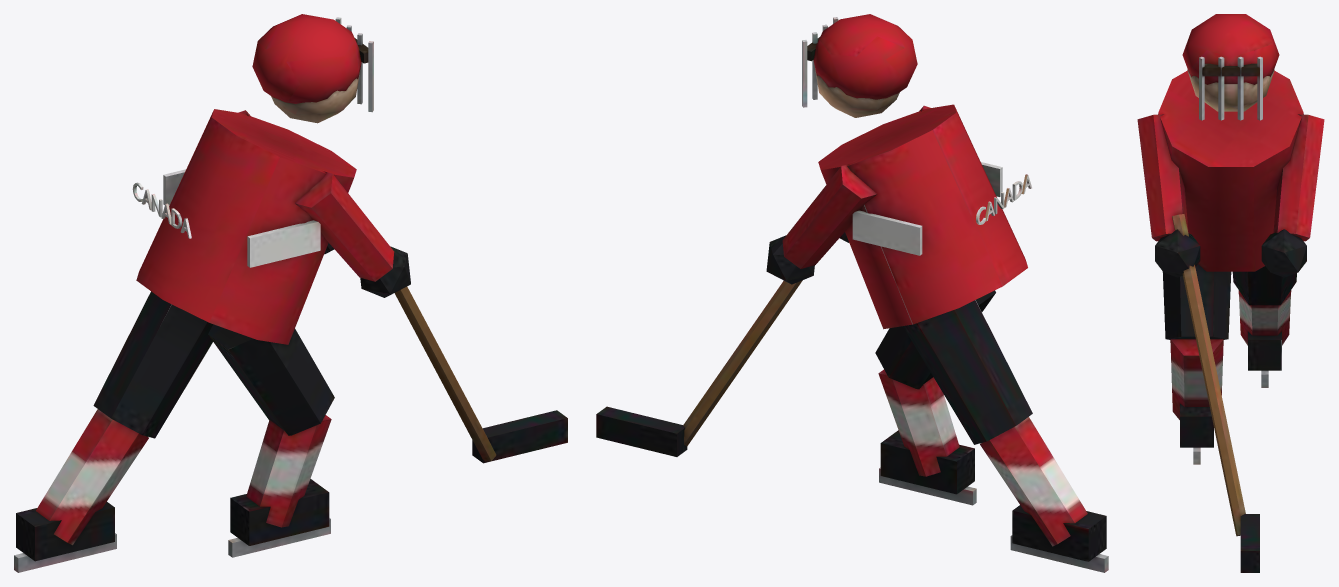
Rendered from jugador_hockey.glb.
The picture shows the model from 3 angles, left to right: view 1: azimuth 30°, elevation 25°; view 2: azimuth 150°, elevation 25°; view 3: azimuth 270°, elevation 25°; orthographic projection. The views are drawn at different scales.
Visible parts, largest first — view 1: jugador_hockey; view 2: jugador_hockey; view 3: jugador_hockey.
Boxes of the visible parts, bbox=[...] form: jugador_hockey: bbox=[14, 14, 567, 572]; jugador_hockey: bbox=[596, 14, 1108, 572]; jugador_hockey: bbox=[1137, 14, 1324, 572].
Size of the model in its own units: 2.29 by 2.03 by 0.7713.
Materials: 1 (1 with a texture image).
